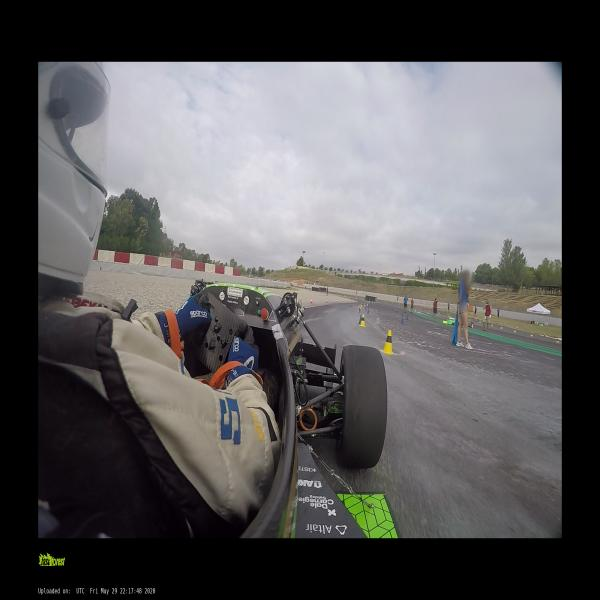blue_cone: (358, 314, 363, 325), (401, 318, 404, 324), (358, 308, 360, 313), (367, 309, 369, 314)
orange_cone: (310, 298, 313, 304), (336, 299, 338, 303), (326, 299, 327, 303)
yellow_cone: (380, 330, 394, 355), (360, 314, 365, 326), (530, 331, 533, 337), (556, 338, 559, 343), (500, 325, 503, 329), (514, 328, 516, 332), (491, 323, 493, 326)
